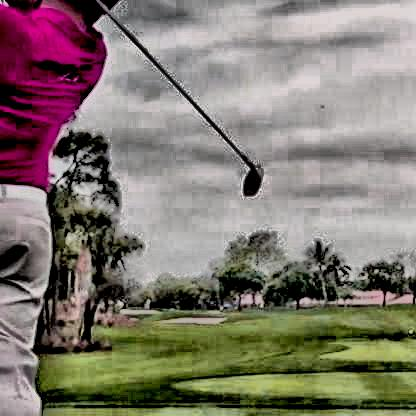golfball: (314, 99, 324, 107)
